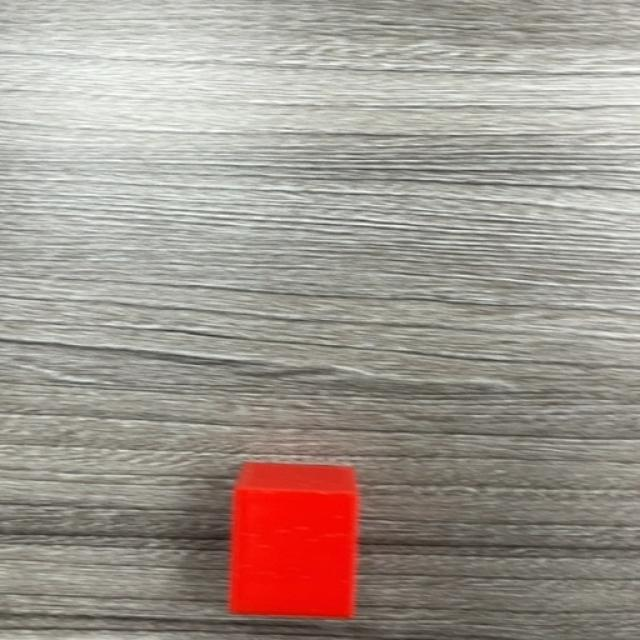Rojo: (229, 489, 360, 622)
